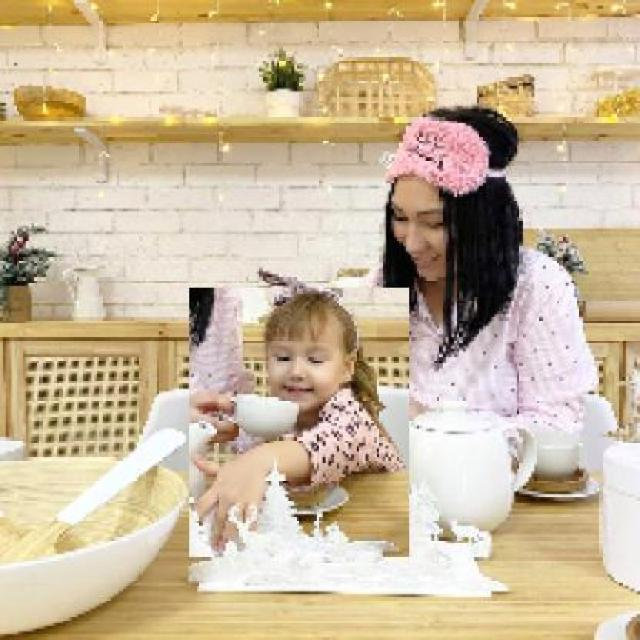child: (187, 287, 410, 558)
